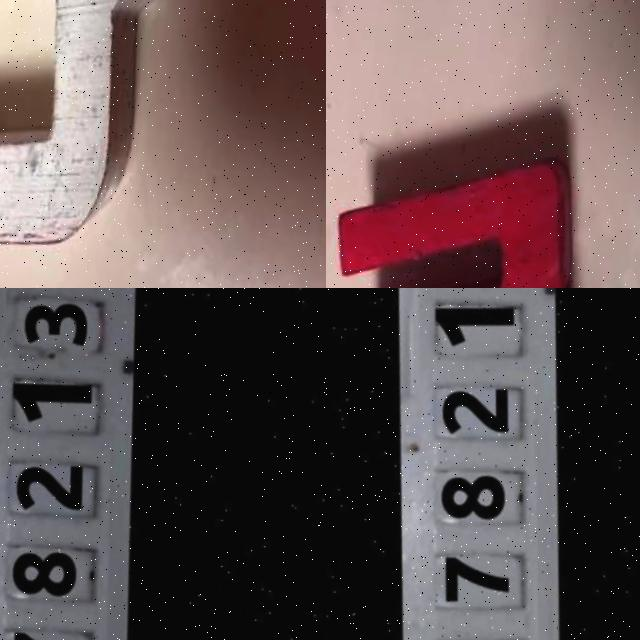1: (404, 288, 530, 390), (0, 356, 108, 468)
2: (405, 364, 528, 471), (0, 438, 103, 550)
3: (0, 288, 112, 384)
7: (404, 531, 529, 640), (0, 605, 97, 640)
8: (399, 450, 527, 560), (0, 524, 99, 637)
9: (404, 619, 521, 640)
Q: (0, 0, 192, 288)
W: (326, 123, 614, 288)
